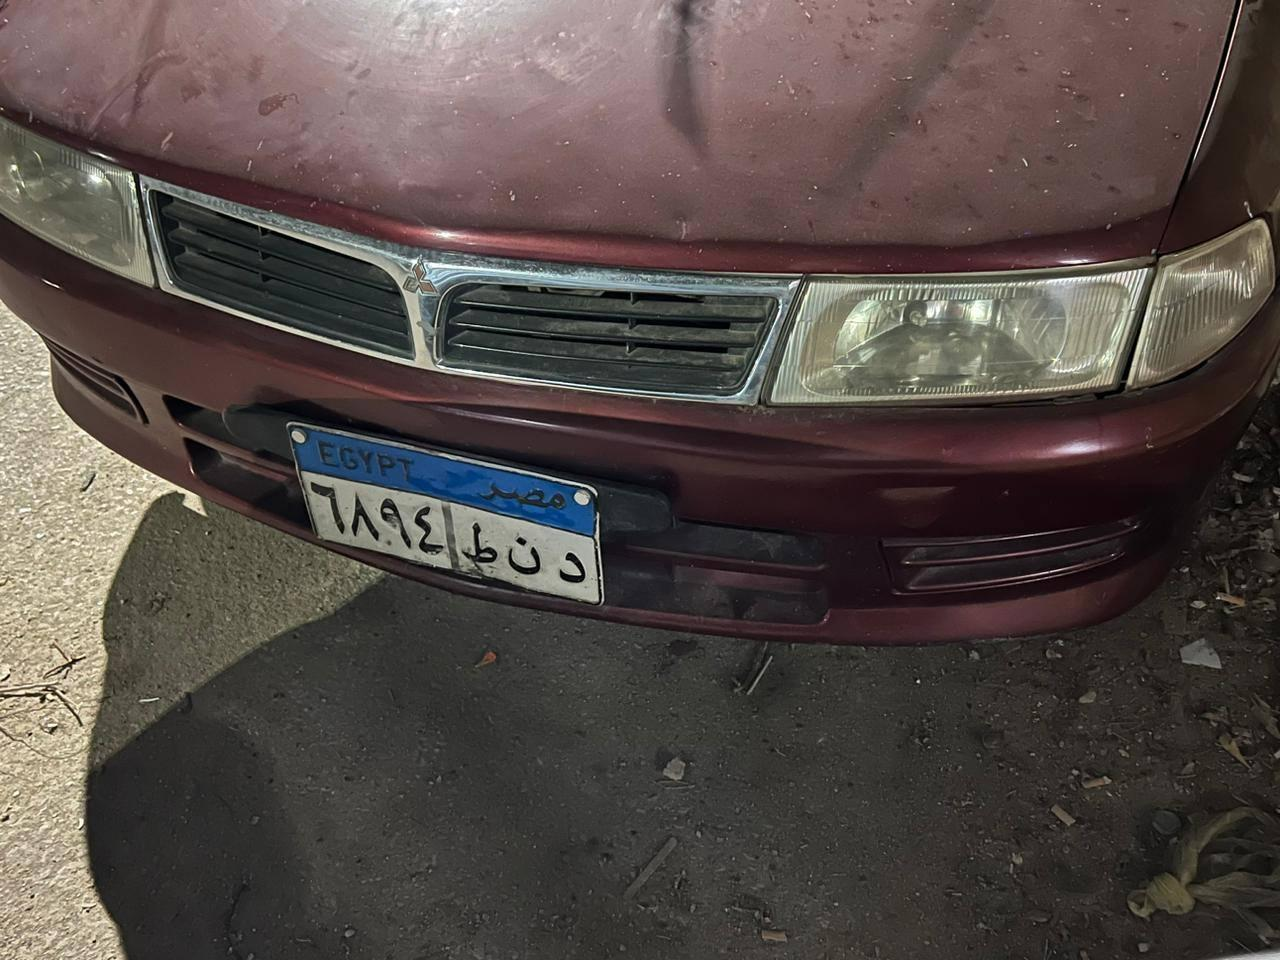4: (413, 507, 445, 557)
6: (309, 478, 347, 538)
8: (342, 492, 382, 543)
9: (376, 494, 420, 552)
License Plate: (284, 415, 610, 616)
Noon: (502, 530, 546, 578)
Taa: (456, 524, 498, 566)
daal: (554, 546, 592, 584)
